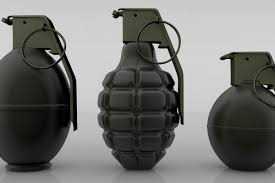e1: (99, 6, 185, 169), (1, 15, 78, 169), (207, 48, 275, 174)
